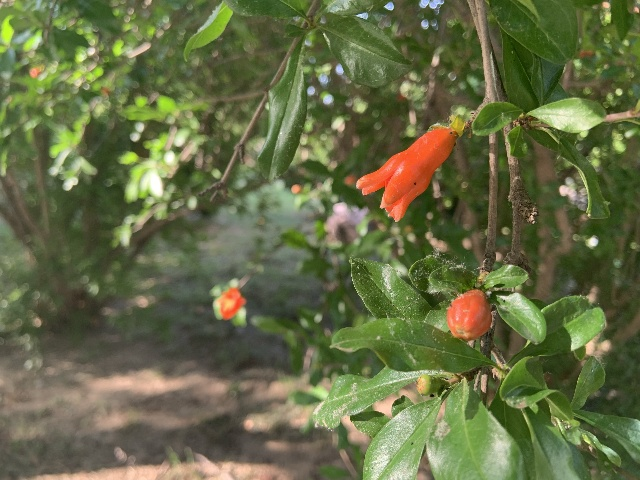bud: (446, 288, 492, 341), (416, 373, 444, 395)
flower: (356, 127, 454, 221), (215, 287, 246, 320)
